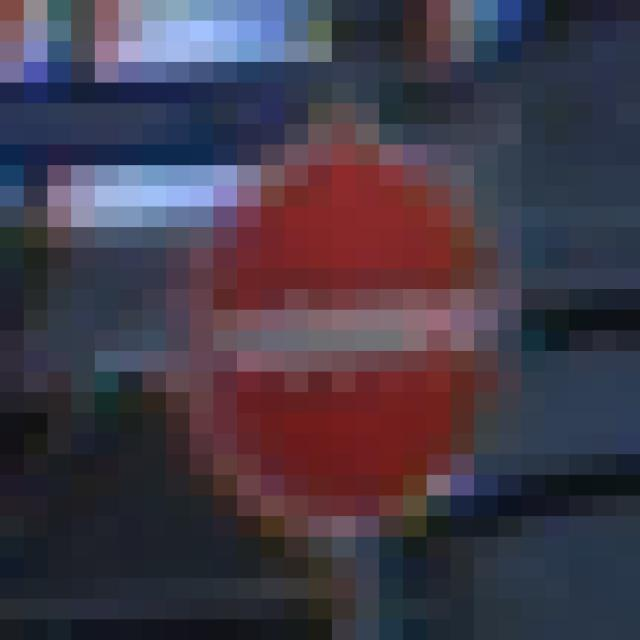No Entry: (143, 104, 523, 538)
